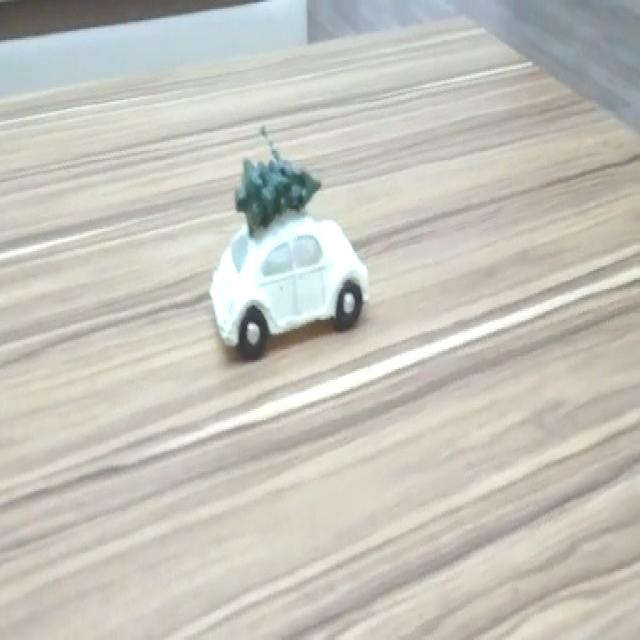car: (216, 222, 369, 354)
